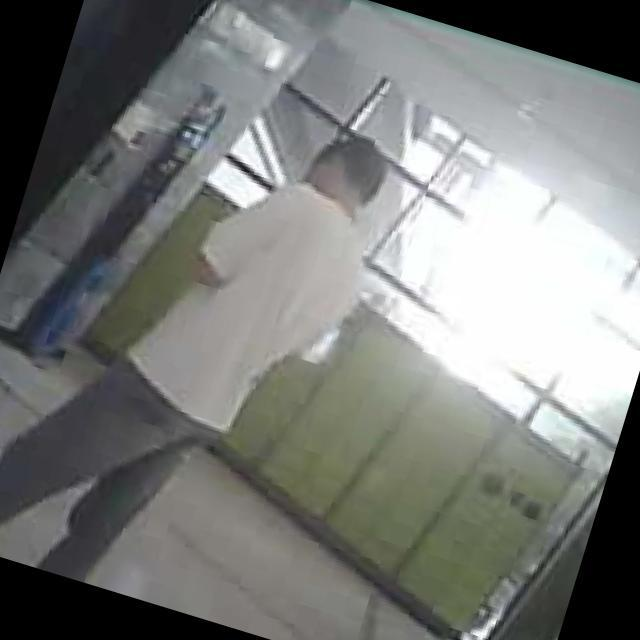person: (0, 45, 403, 634)
